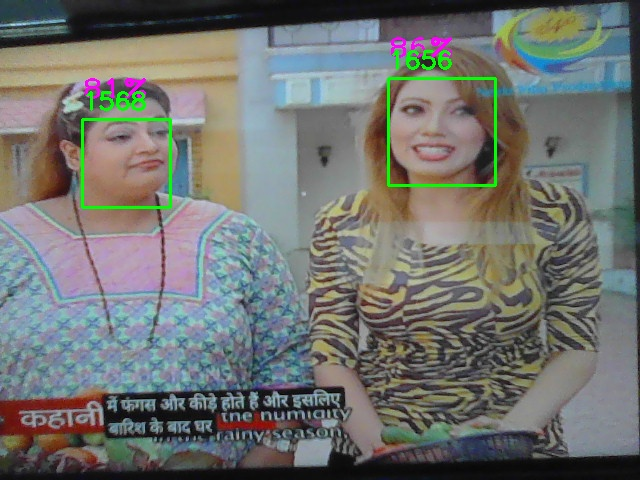fake: (388, 78, 496, 186), (82, 119, 171, 208)
